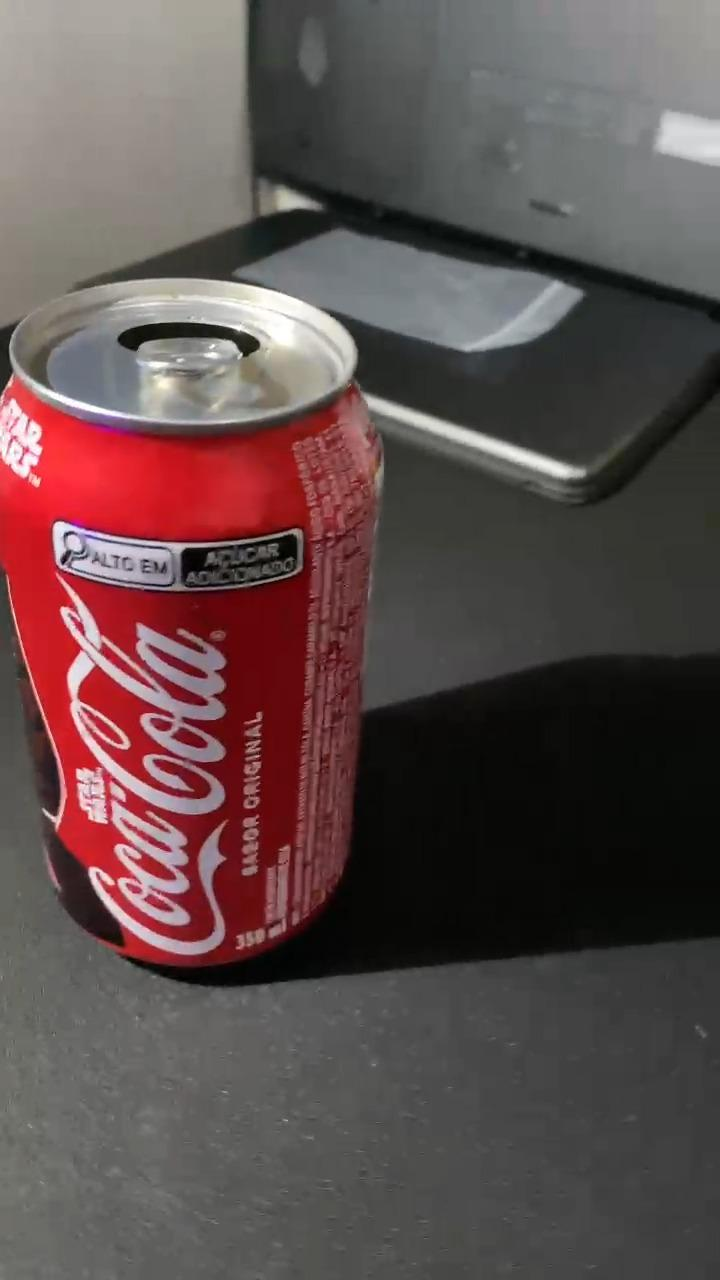coke: (3, 280, 384, 964)
